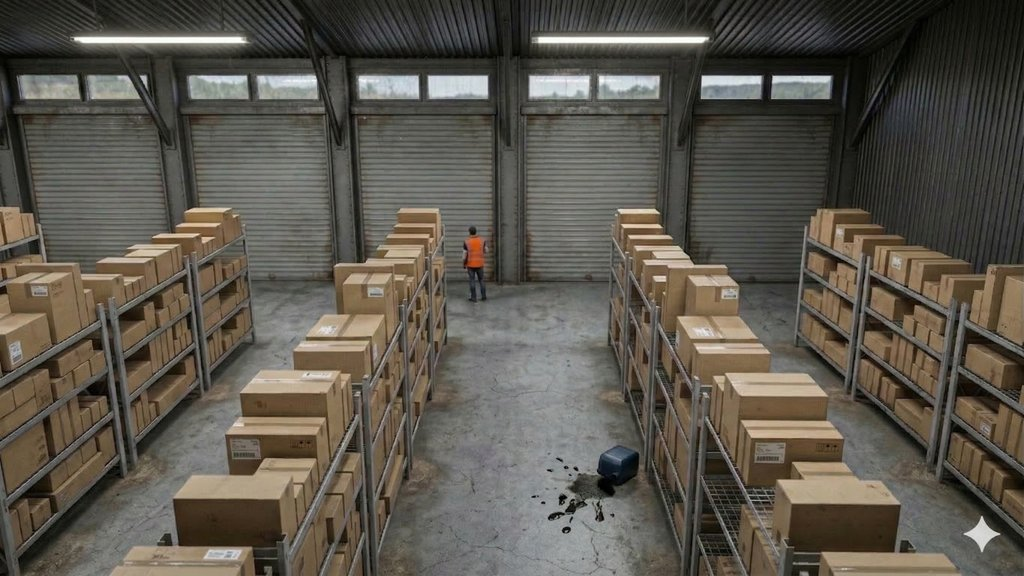person: (458, 220, 506, 307)
safety_vest: (463, 235, 494, 273)
spill: (528, 385, 645, 539)
